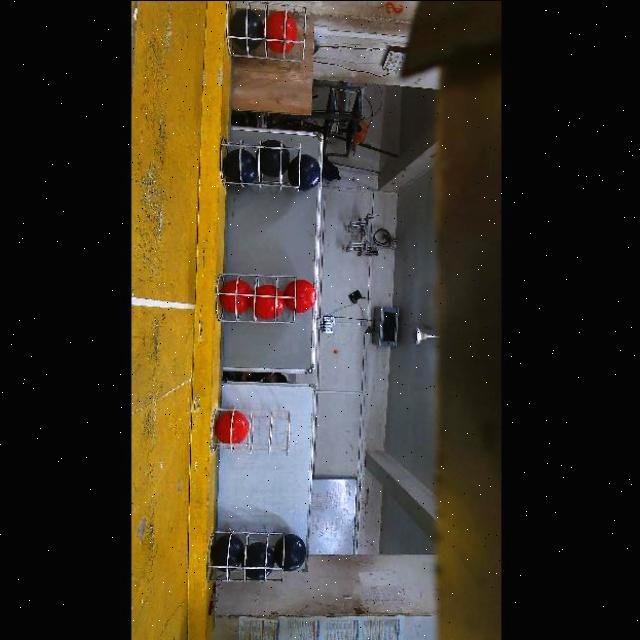P: (229, 7, 265, 50), (212, 532, 246, 572), (224, 148, 260, 183), (275, 532, 307, 571), (289, 153, 322, 190), (245, 541, 276, 580), (259, 139, 291, 176)
R: (267, 10, 298, 53), (252, 283, 286, 319), (285, 278, 317, 313), (221, 279, 253, 313), (216, 410, 250, 442)
S: (219, 0, 317, 58), (206, 528, 290, 588), (214, 138, 300, 192), (212, 270, 296, 324), (206, 404, 290, 454)
